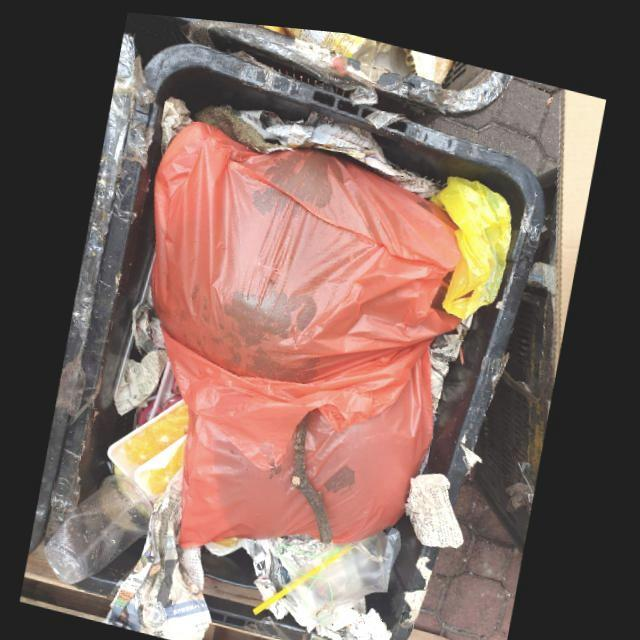paper: (104, 463, 214, 640), (234, 104, 441, 190), (116, 284, 171, 413), (244, 528, 328, 595), (407, 464, 466, 539), (318, 589, 395, 640), (431, 314, 464, 404), (161, 92, 193, 153)
plastic_bag: (152, 116, 463, 541), (430, 166, 512, 310)
plastic_bottle: (284, 22, 378, 57)
plastic_container: (47, 471, 155, 582)
